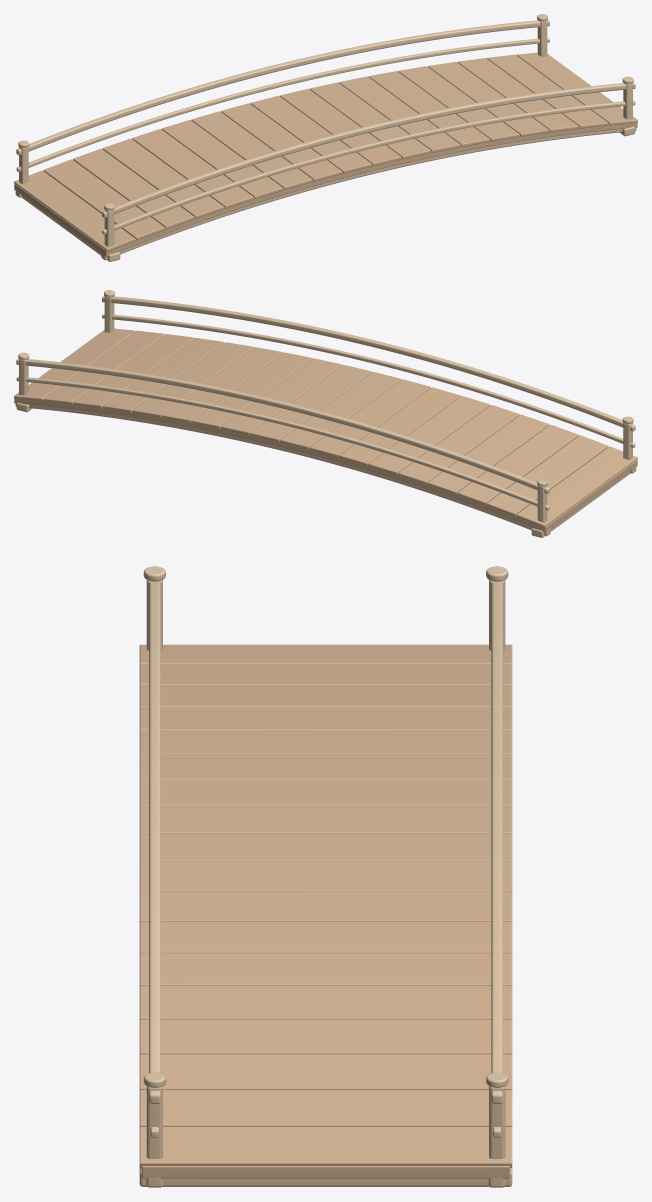
The model's file is park-lower-bridge-v63.glb.
3 views of the same model, one above another, from view 1: azimuth 30°, elevation 25°; view 2: azimuth 150°, elevation 25°; view 3: azimuth 270°, elevation 25° (orthographic). The views are drawn at different scales.
Visible parts, largest first — view 1: arched-bridge-lower-v63__honey_softwood, arched-bridge-lower-v63__sanded_timber; view 2: arched-bridge-lower-v63__honey_softwood, arched-bridge-lower-v63__sanded_timber; view 3: arched-bridge-lower-v63__honey_softwood, arched-bridge-lower-v63__sanded_timber.
Boxes of the visible parts, x1,y1,x2,y2 form: arched-bridge-lower-v63__honey_softwood: [14, 52, 637, 256]; arched-bridge-lower-v63__sanded_timber: [15, 14, 636, 261]; arched-bridge-lower-v63__honey_softwood: [14, 328, 637, 532]; arched-bridge-lower-v63__sanded_timber: [15, 290, 636, 537]; arched-bridge-lower-v63__honey_softwood: [139, 644, 512, 1178]; arched-bridge-lower-v63__sanded_timber: [139, 566, 512, 1187].
Size of the model in its own units: 14.43 by 1.8 by 4.38.
